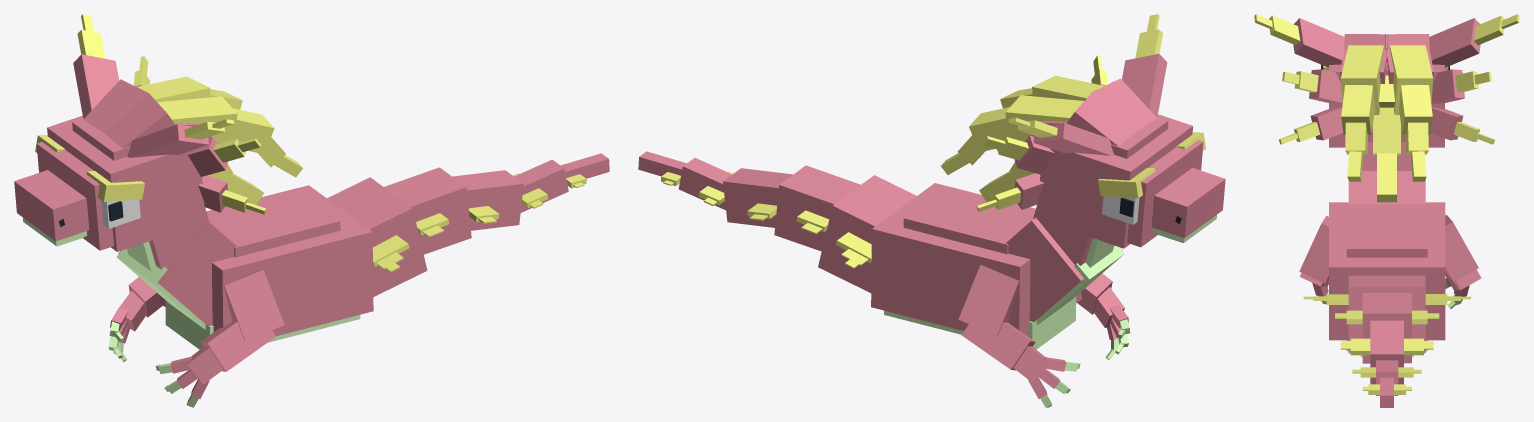
Rendered from lod_pastel_dragon.obj.
3 renders of one model, left to right at view 1: azimuth 30°, elevation 25°; view 2: azimuth 150°, elevation 25°; view 3: azimuth 270°, elevation 25°, orthographic. The views are drawn at different scales.
Parts seen in each view (by area): view 1: lod_pastel_dragon; view 2: lod_pastel_dragon; view 3: lod_pastel_dragon.
Part boxes in pixels (x1,y1,x2,y2): lod_pastel_dragon: [14, 14, 609, 407]; lod_pastel_dragon: [638, 14, 1225, 407]; lod_pastel_dragon: [1254, 14, 1519, 407].
Bounding box in the file's own units: 15.5 × 8.34 × 6.84.
